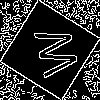W: (25, 25, 80, 81)
